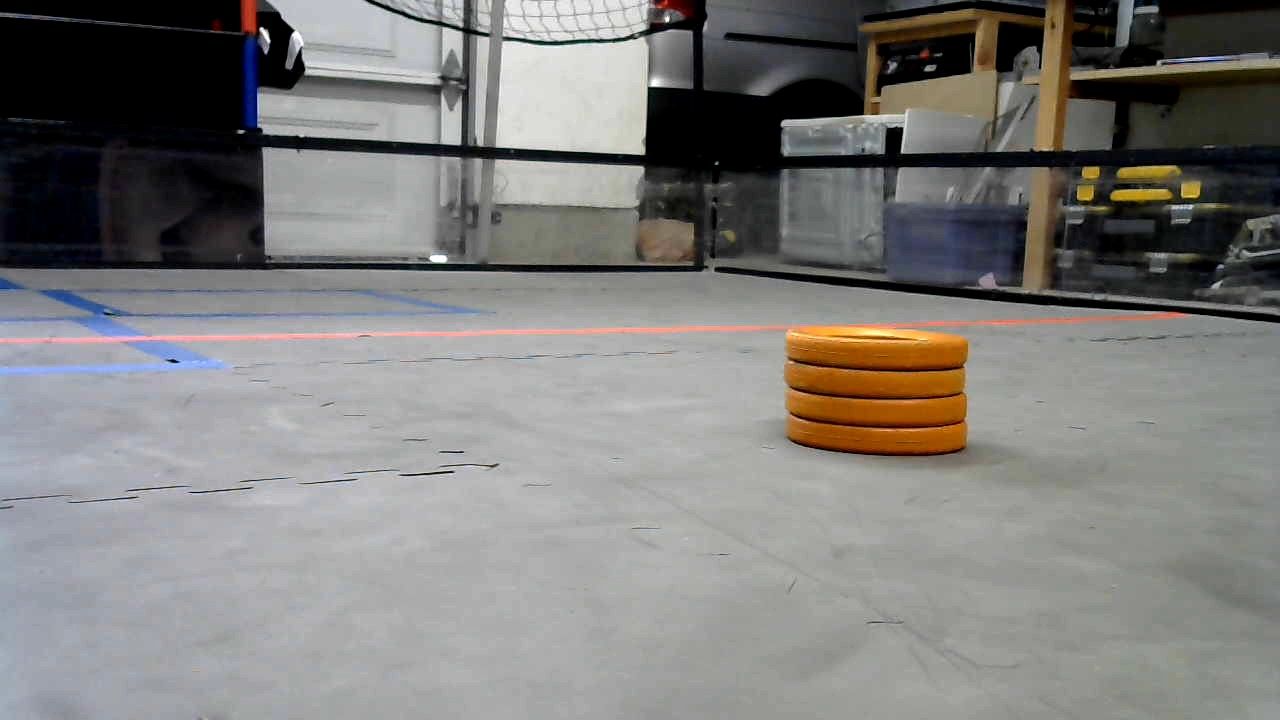FourStack: (784, 322, 971, 458)
